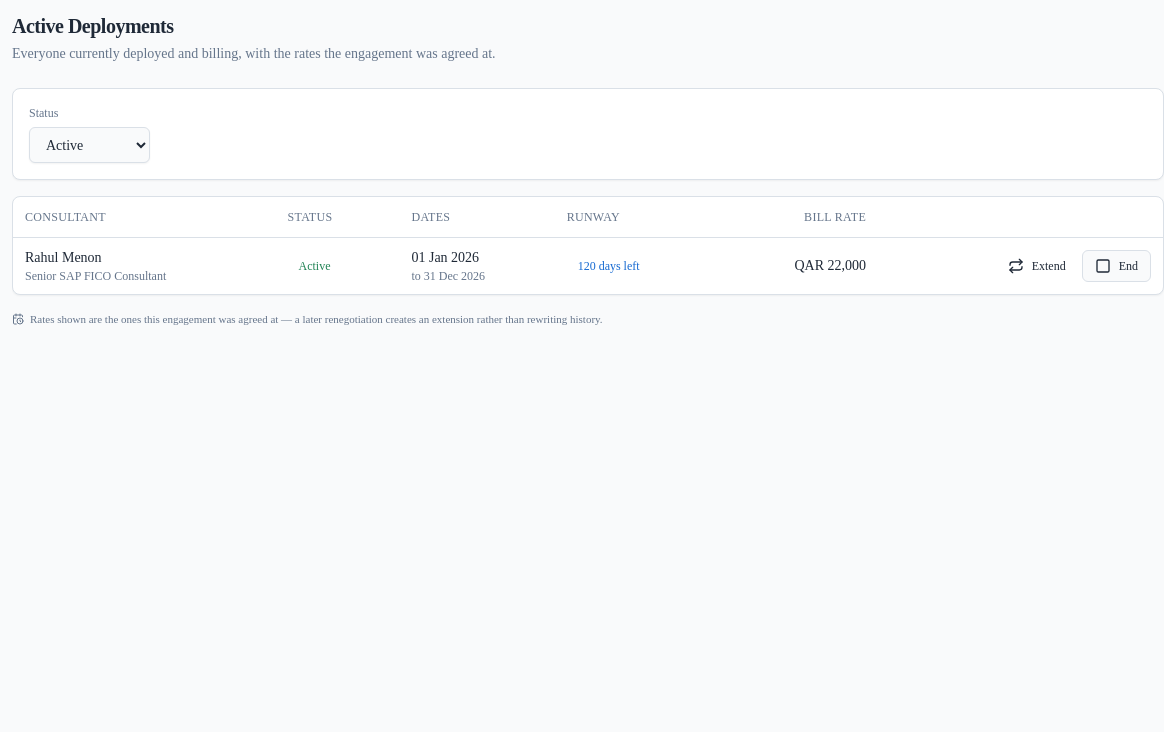
Scenario: deployments screen › warns that ending cancels future projections
Click the button "End" at (1116, 266), box [1082,250,1151,282]
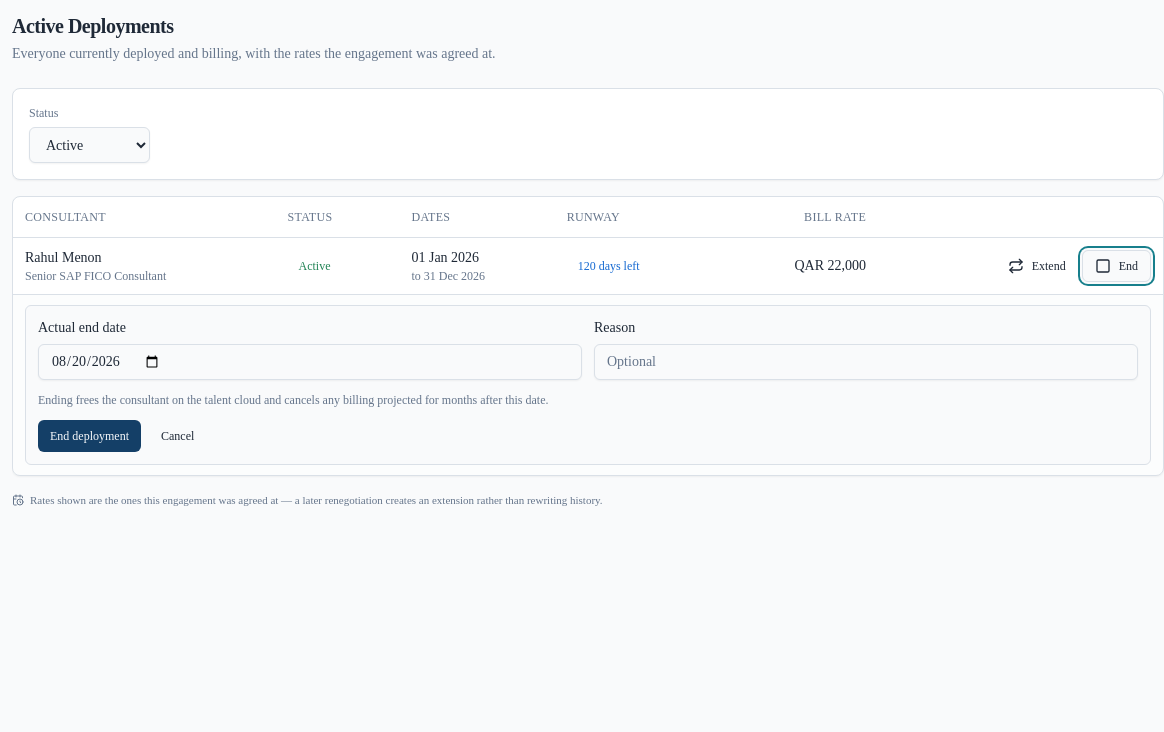
Check: the text "cancels any billing projected for months after" is shown, box [38,392,548,406]
